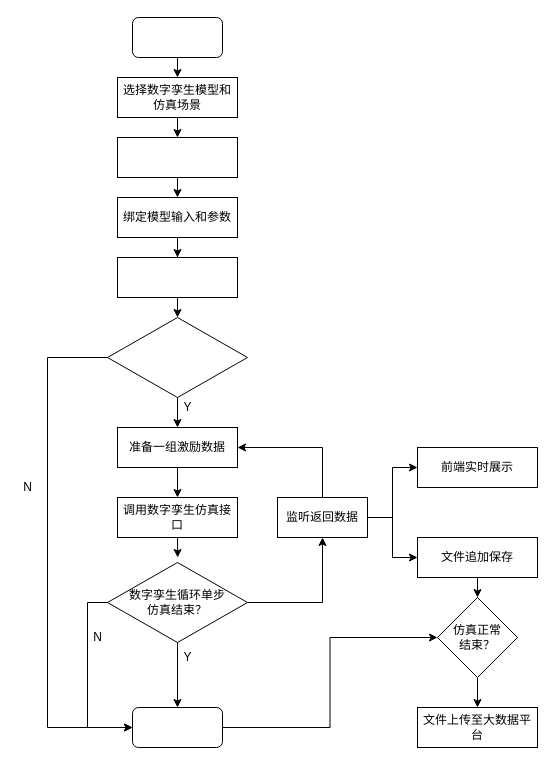
Some shapes in this 555 by 765 pixel diagram are drawn without their labels. Here are the shapes that lost their labels. From the top down, the box of each, then its label:
(132, 16, 222, 58): 开始仿真
(116, 136, 238, 178): 绑定激励文件
(116, 256, 238, 298): 调用数字孪生启动接口
(106, 316, 248, 398): 数字孪生启动成功？
(132, 706, 222, 748): 仿真结束
